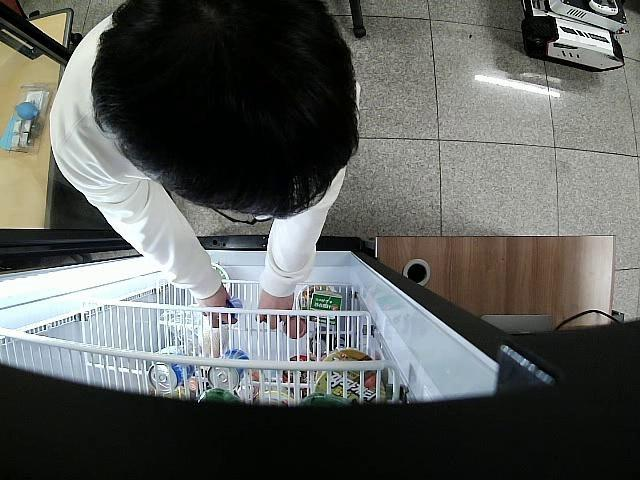13_pocariSweat: (226, 299, 243, 318)
